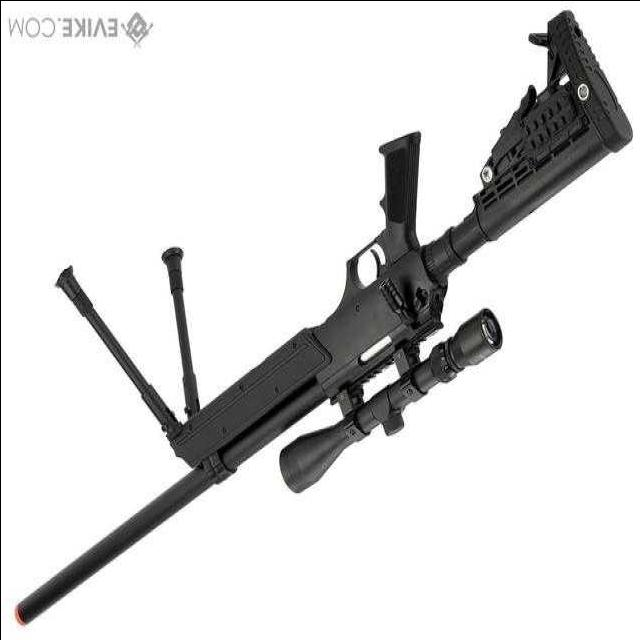heavyweapon: (14, 2, 625, 636)
